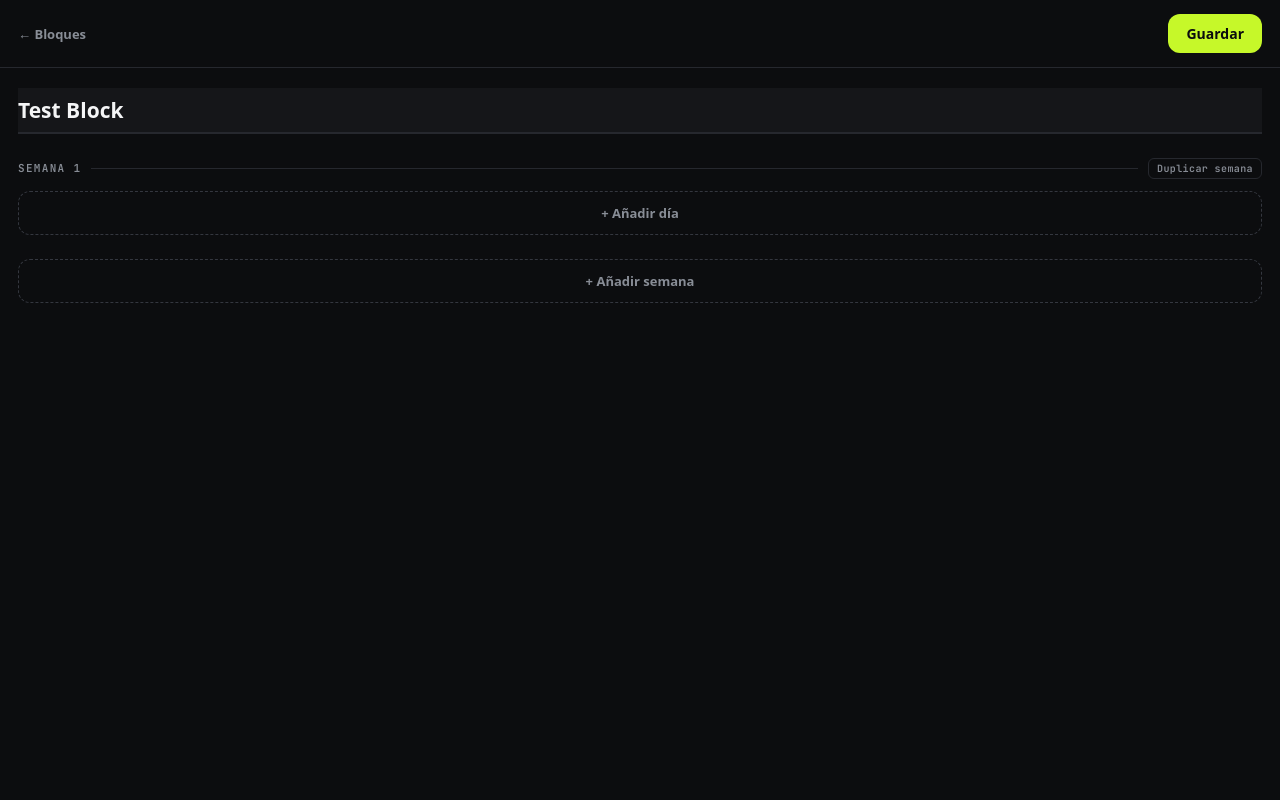
Test: BlockEditorPage › duplicate week button opens the sheet
Expected: the field showing "Test Block" is shown, [18,88,1262,134]
Note: Click the duplicate week button
Click the button "Duplicar semana".
click(1205, 168)  # box [1148,158,1262,179]
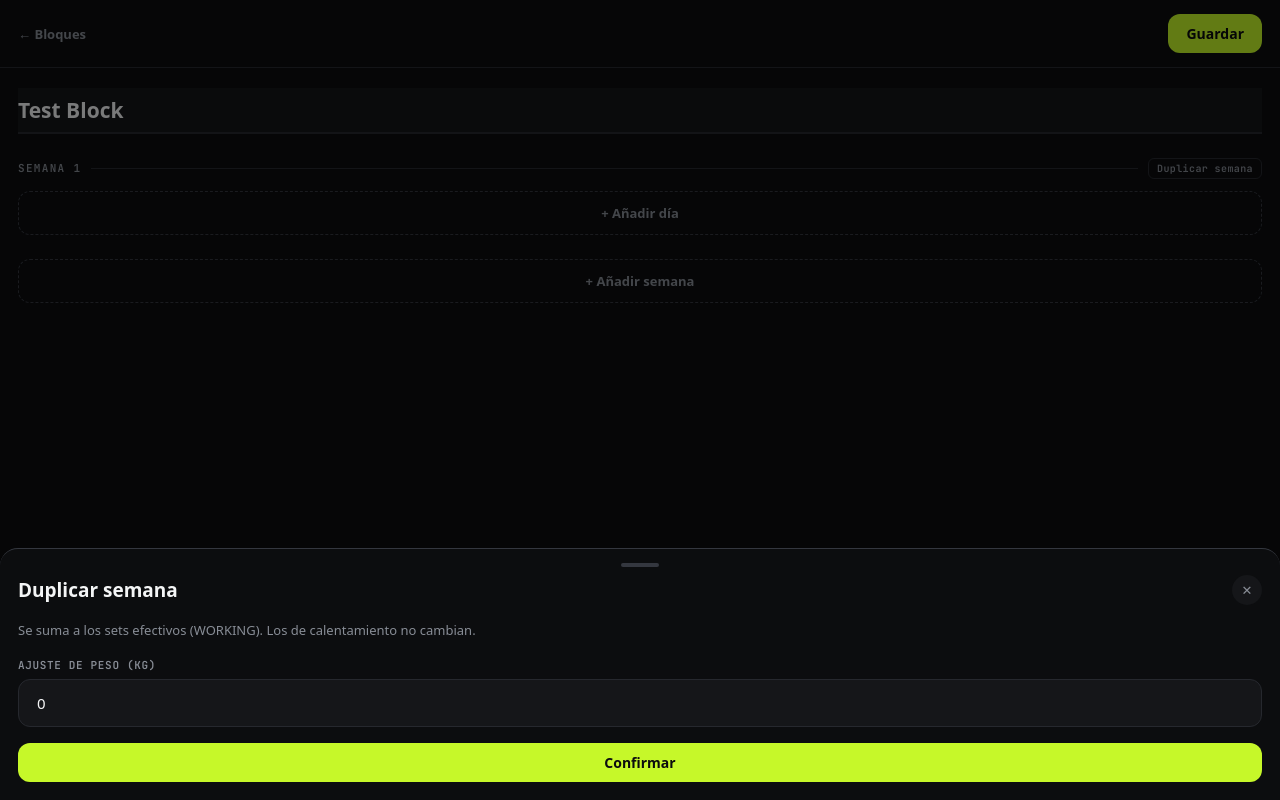
Result: the number field named "ajuste de peso" is shown at [18,679,1262,727]
